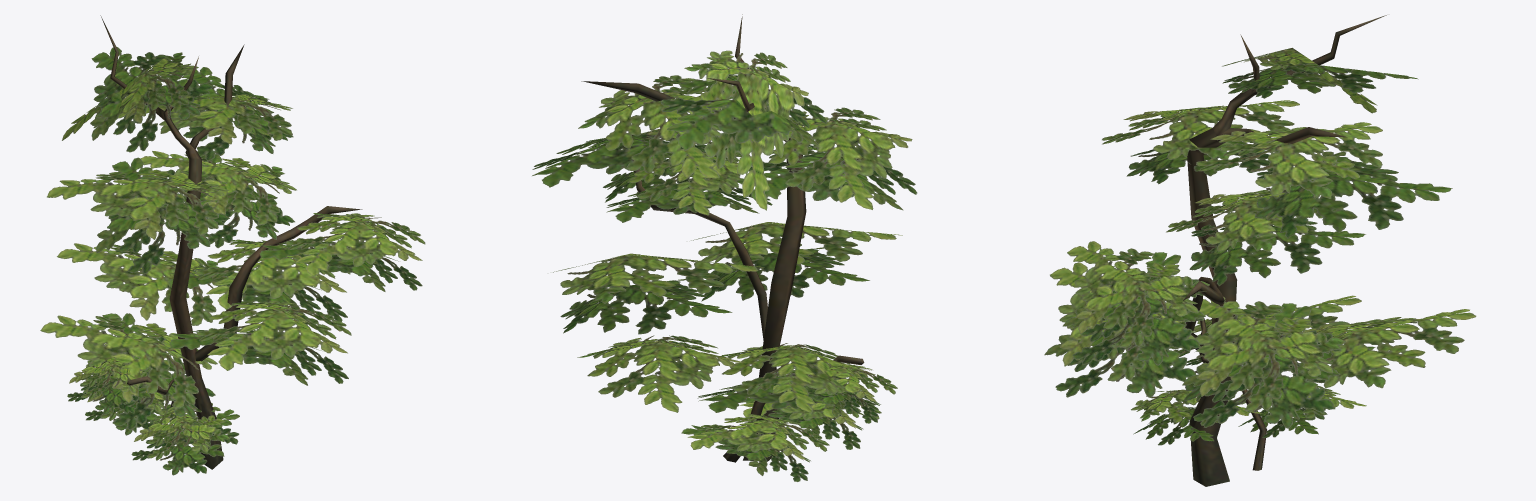
Rendered from S_Tree_Green033.FBX.
3 views of the same model, side by side, from view 1: azimuth 30°, elevation 25°; view 2: azimuth 150°, elevation 25°; view 3: azimuth 270°, elevation 25° (orthographic). The views are drawn at different scales.
Parts seen in each view (by area): view 1: S_Tree_Green033; view 2: S_Tree_Green033; view 3: S_Tree_Green033.
Part boxes in pixels (left/top/right/bottom): S_Tree_Green033: left=40, top=15, right=425, bottom=475; S_Tree_Green033: left=532, top=14, right=917, bottom=481; S_Tree_Green033: left=1044, top=15, right=1476, bottom=486.
Size of the model in its own units: 298 by 318 by 332.
